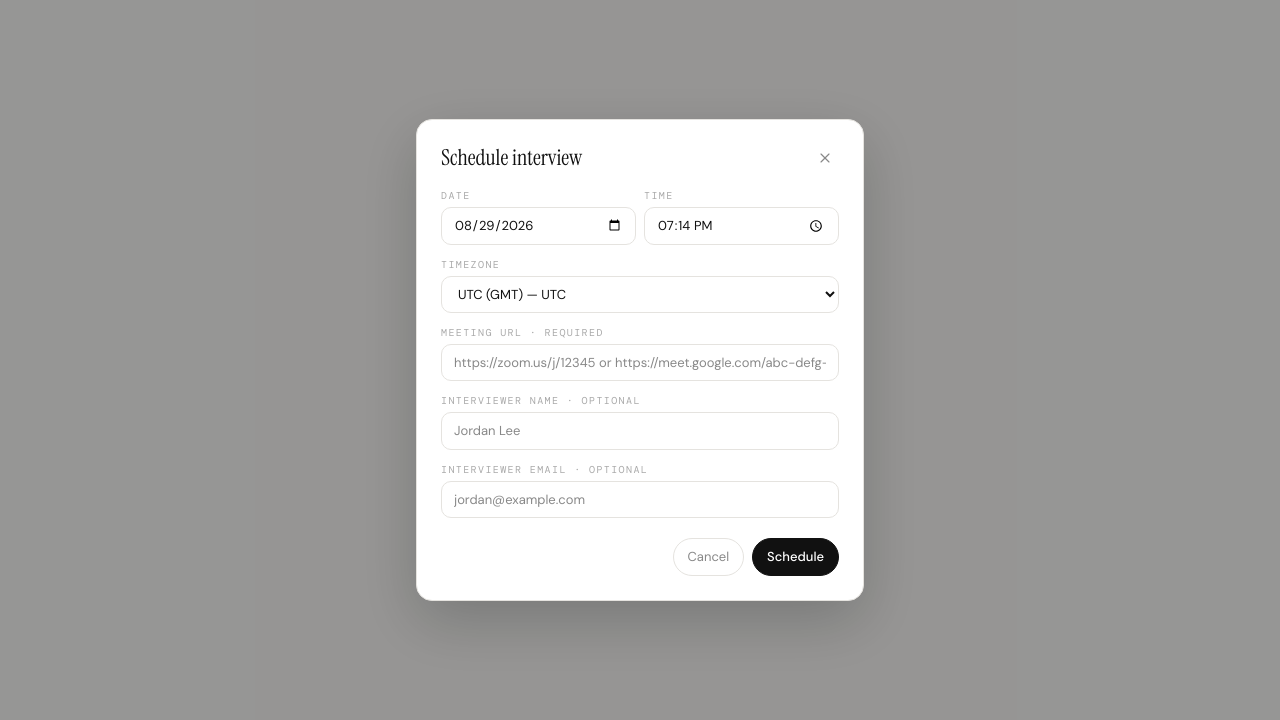
Scenario: ScheduleModal — validation gates › blocks submit when the date is in the far past (>5 min)
Type "2020-01-01" into the date field labelled "Date".
click(538, 226); type("2020-01-01")  # box top-left (441, 207), bottom-right (636, 245)
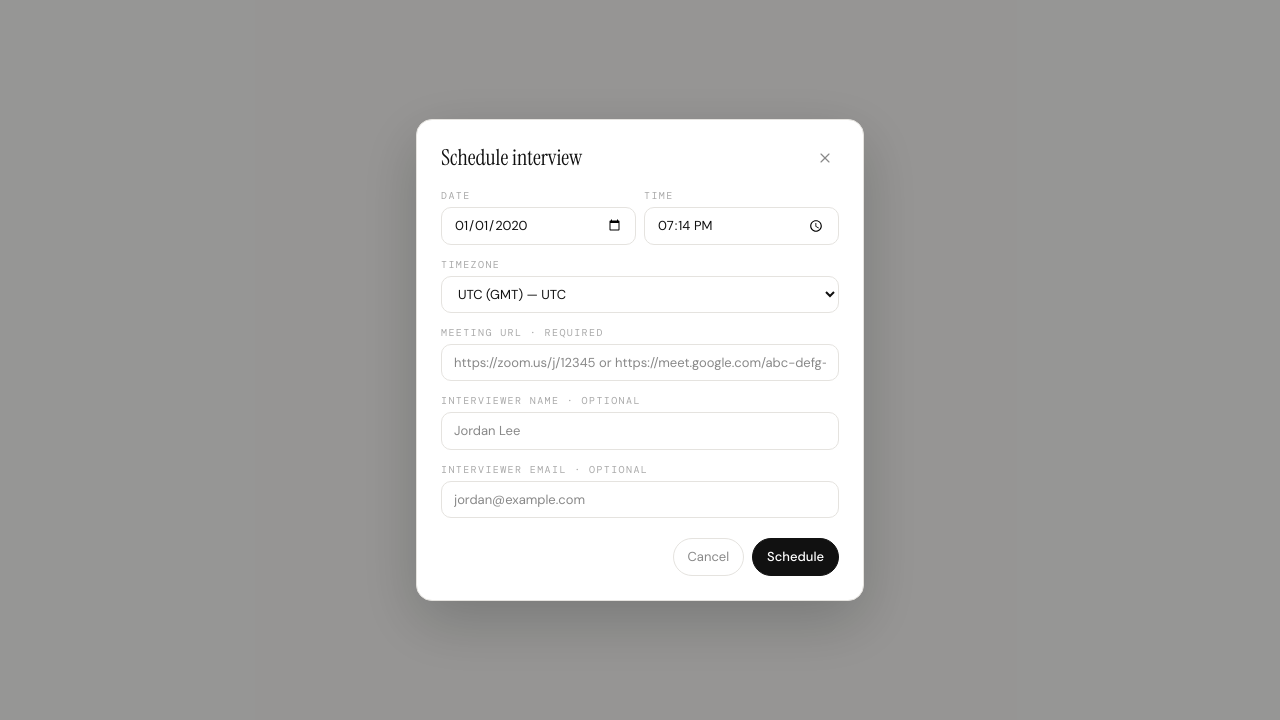
Replace the text in the time field labelled "Time" with "10:00" at [742, 226], box top-left (644, 207), bottom-right (839, 245)
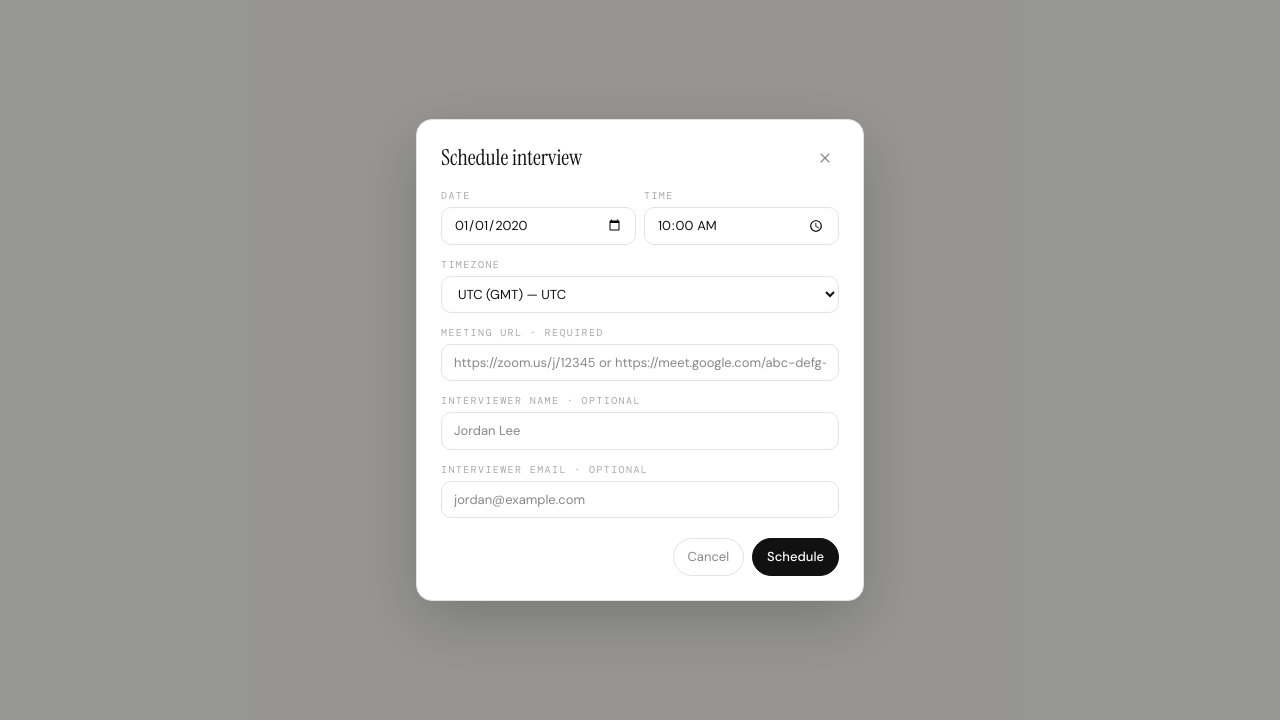
Replace the text in the field labelled "Meeting URL · required" with "https://zoom.us/j/12345" at [640, 363], box top-left (441, 344), bottom-right (839, 381)
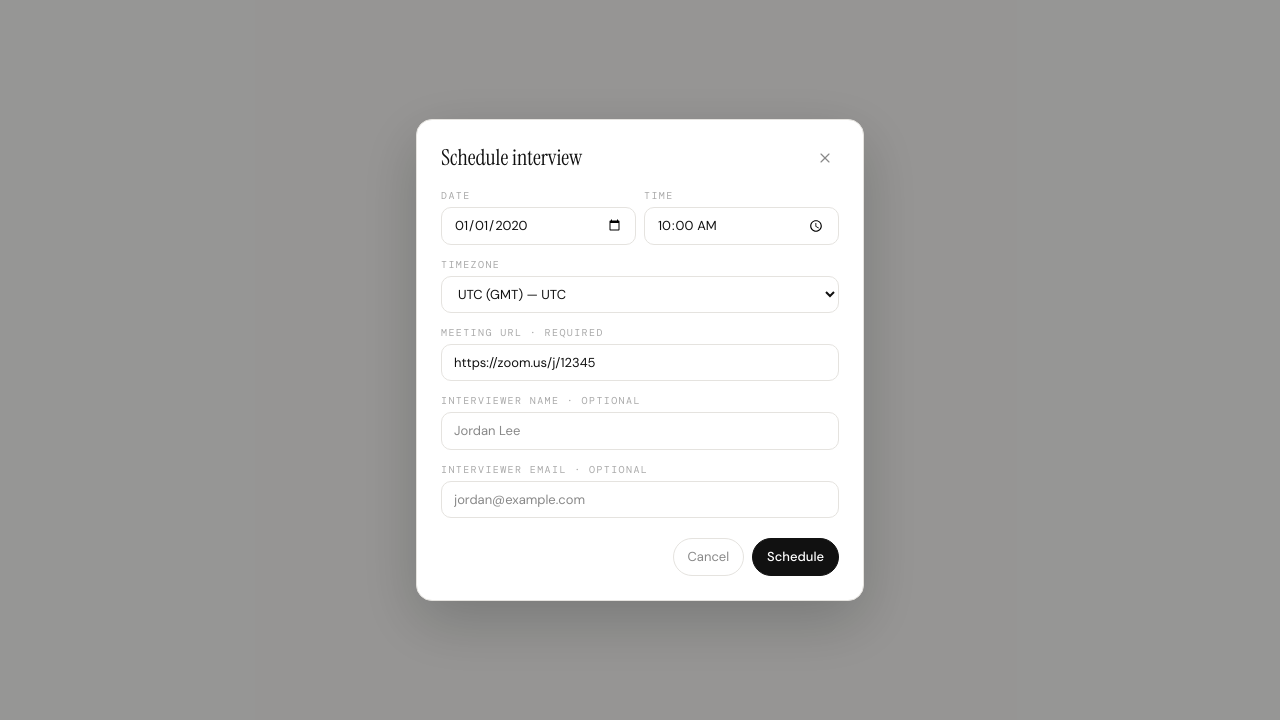
Submit the form, box top-left (441, 188), bottom-right (839, 576)
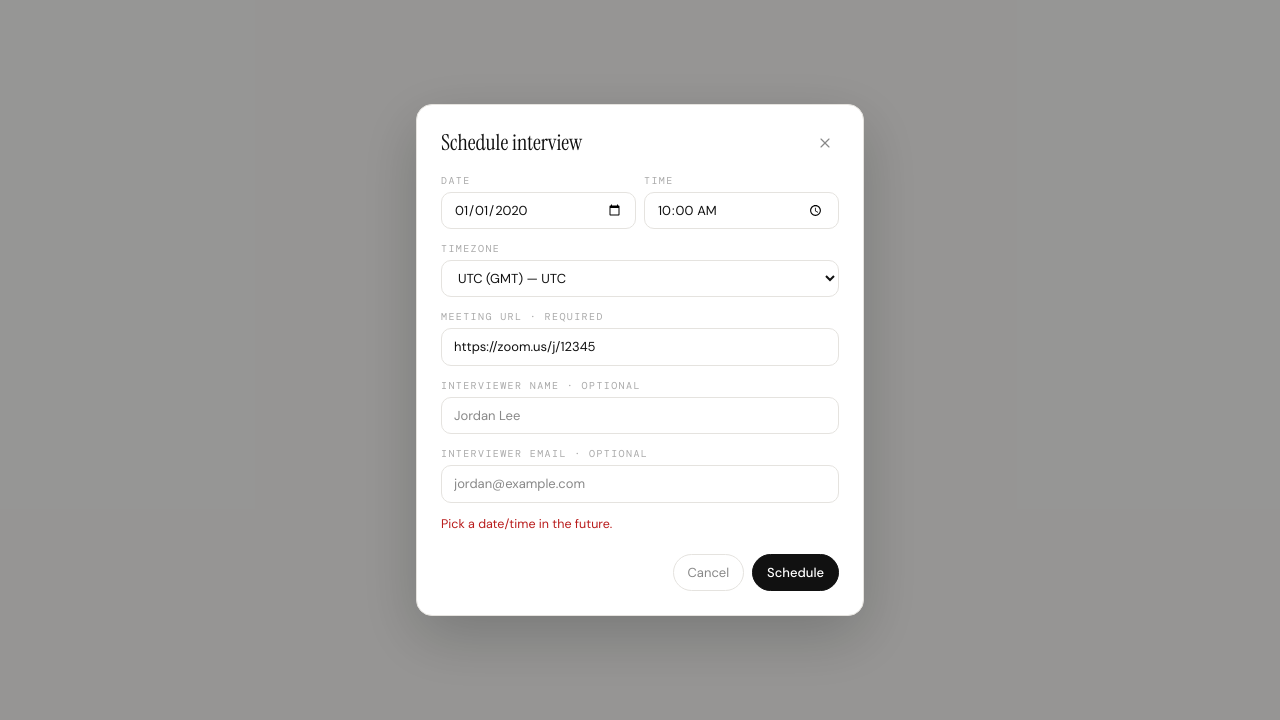
Expected: the text "Pick a date/time in the future." is shown, top-left (441, 516), bottom-right (612, 532)
